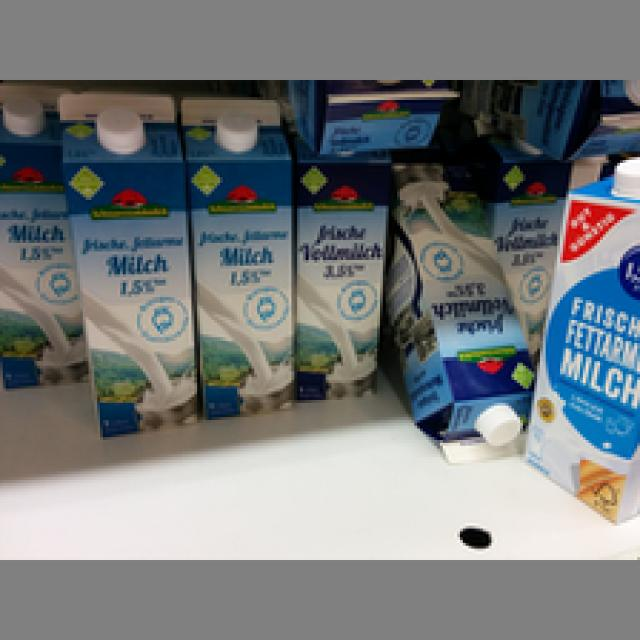groceries: (43, 92, 200, 434), (394, 151, 532, 466), (175, 92, 292, 417), (537, 160, 637, 526), (3, 80, 86, 391), (288, 154, 383, 400)
